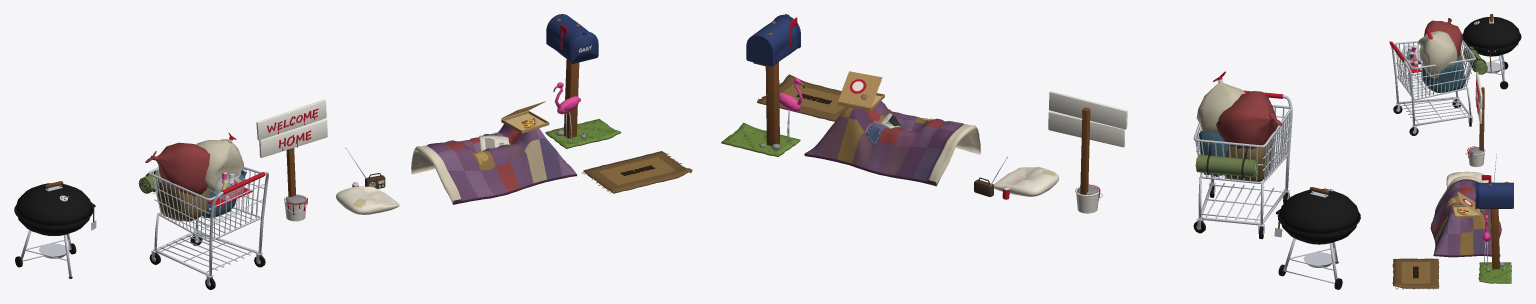
File: gary_spot.glb
3 views of the same model, side by side, from view 1: azimuth 30°, elevation 25°; view 2: azimuth 150°, elevation 25°; view 3: azimuth 270°, elevation 25° (orthographic). The views are drawn at different scales.
Parts seen in each view (by area): view 1: GaryQuilt, Cart_Load, Cart_Frame, KettleGrill, WelcomeHomeSign, GaryMailbox, WelcomeMat, GaryFrontYard, GaryClutter, GaryPillow; view 2: GaryQuilt, Cart_Load, KettleGrill, Cart_Frame, WelcomeHomeSign, GaryMailbox, GaryClutter, GaryFrontYard, WelcomeMat, GaryPillow; view 3: Cart_Frame, GaryQuilt, Cart_Load, KettleGrill, GaryMailbox, WelcomeMat, GaryFrontYard, WelcomeHomeSign, GaryClutter, GaryPillow.
Boxes of the visible parts, x1,y1,x2,y2 form: GaryQuilt: (411,124,576,204); Cart_Load: (138,133,246,221); Cart_Frame: (148,166,268,289); KettleGrill: (14,181,96,278); WelcomeHomeSign: (256,99,327,221); GaryMailbox: (546,14,598,138); WelcomeMat: (581,151,692,193); GaryFrontYard: (545,82,621,148); GaryClutter: (345,101,549,188); GaryPillow: (336,186,399,214); GaryQuilt: (804,101,980,186); Cart_Load: (1195,71,1281,181); KettleGrill: (1274,187,1360,289); Cart_Frame: (1193,90,1292,239); WelcomeHomeSign: (1048,91,1127,213); GaryMailbox: (746,14,800,145); GaryClutter: (837,71,1009,199); GaryFrontYard: (721,78,804,156); WelcomeMat: (757,74,848,121); GaryPillow: (994,166,1059,196); Cart_Frame: (1389,40,1475,135); GaryQuilt: (1430,176,1501,257); Cart_Load: (1402,18,1487,92); KettleGrill: (1462,14,1521,89); GaryMailbox: (1474,175,1513,269); WelcomeMat: (1392,258,1439,289); GaryFrontYard: (1478,215,1511,283); WelcomeHomeSign: (1465,72,1485,166); GaryClutter: (1452,154,1496,218); GaryPillow: (1446,171,1486,187).
Bounding box in the file's own units: 6.98 × 1.46 × 1.75.
